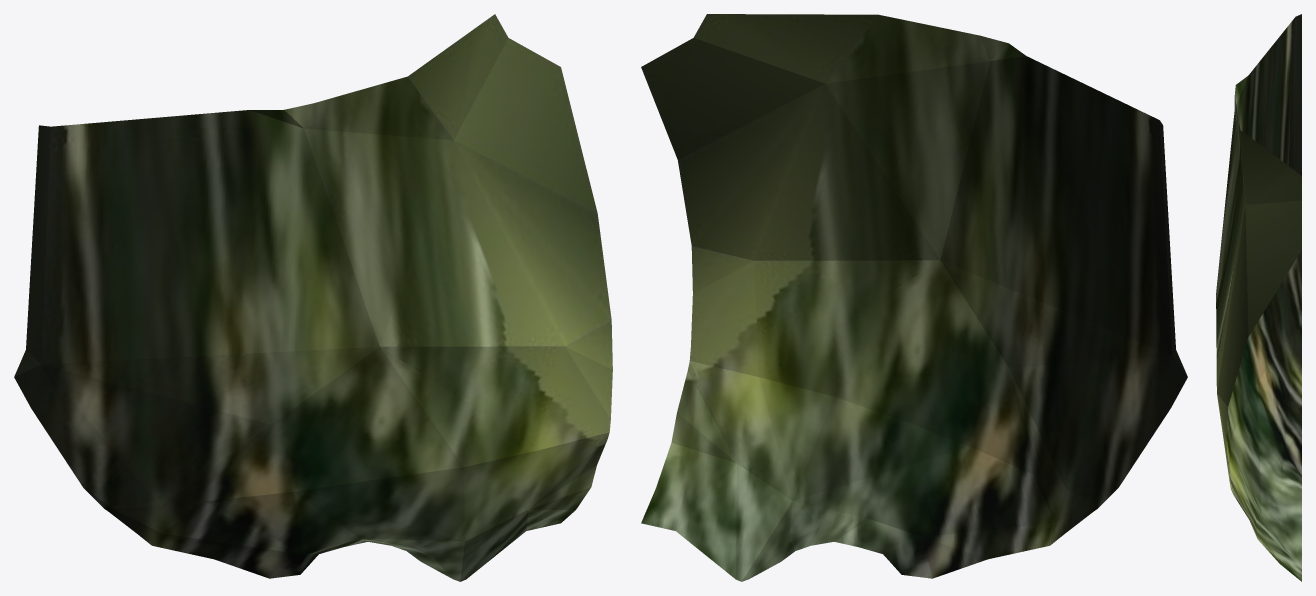
3 views of the same model, side by side, from view 1: azimuth 30°, elevation 25°; view 2: azimuth 150°, elevation 25°; view 3: azimuth 270°, elevation 25° (orthographic). The views are drawn at different scales.
Bounding box in the file's own units: 2.21 × 2.16 × 0.4136.
1 material, 1 textured.
